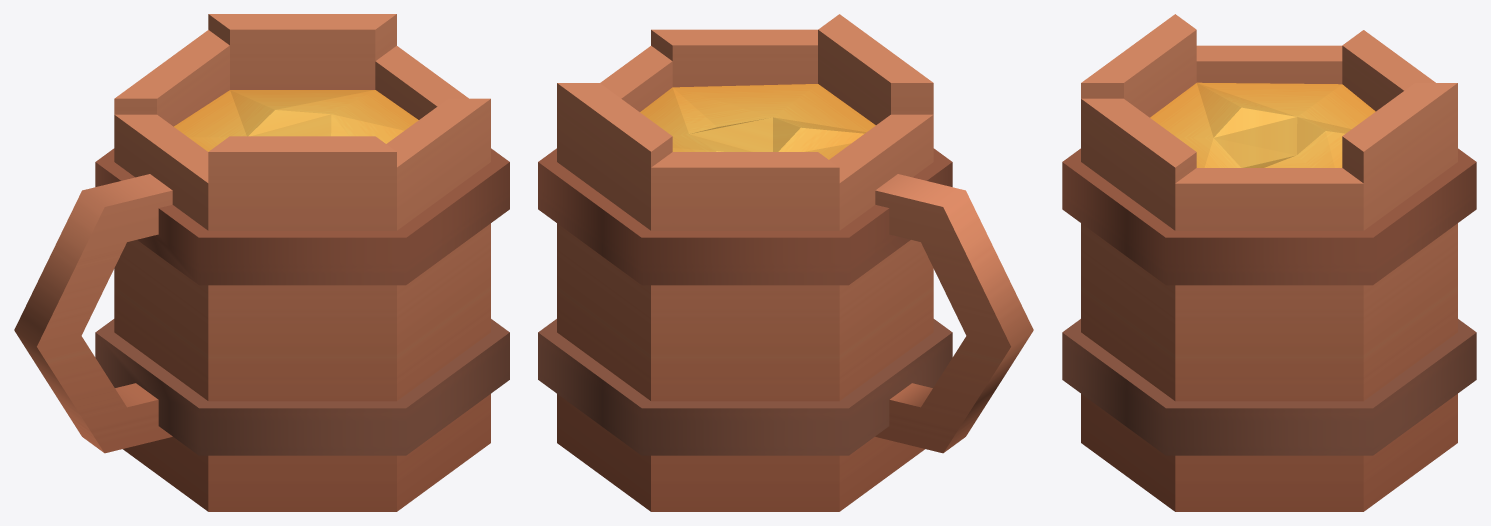
The model's file is mug.fbx.
3 views of the same model, side by side, from view 1: azimuth 30°, elevation 25°; view 2: azimuth 150°, elevation 25°; view 3: azimuth 270°, elevation 25° (orthographic).
Visible parts, largest first — view 1: mug, mug.001; view 2: mug, mug.001; view 3: mug, mug.001.
Boxes of the visible parts, x1=… form: mug: x1=14, y1=14, x2=509, y2=511; mug.001: x1=174, y1=90, x2=418, y2=151; mug: x1=538, y1=14, x2=1033, y2=511; mug.001: x1=640, y1=84, x2=875, y2=159; mug: x1=1062, y1=14, x2=1476, y2=511; mug.001: x1=1150, y1=82, x2=1375, y2=167.
Size of the model in its own units: 0.0859 by 0.0713 by 0.0683.
